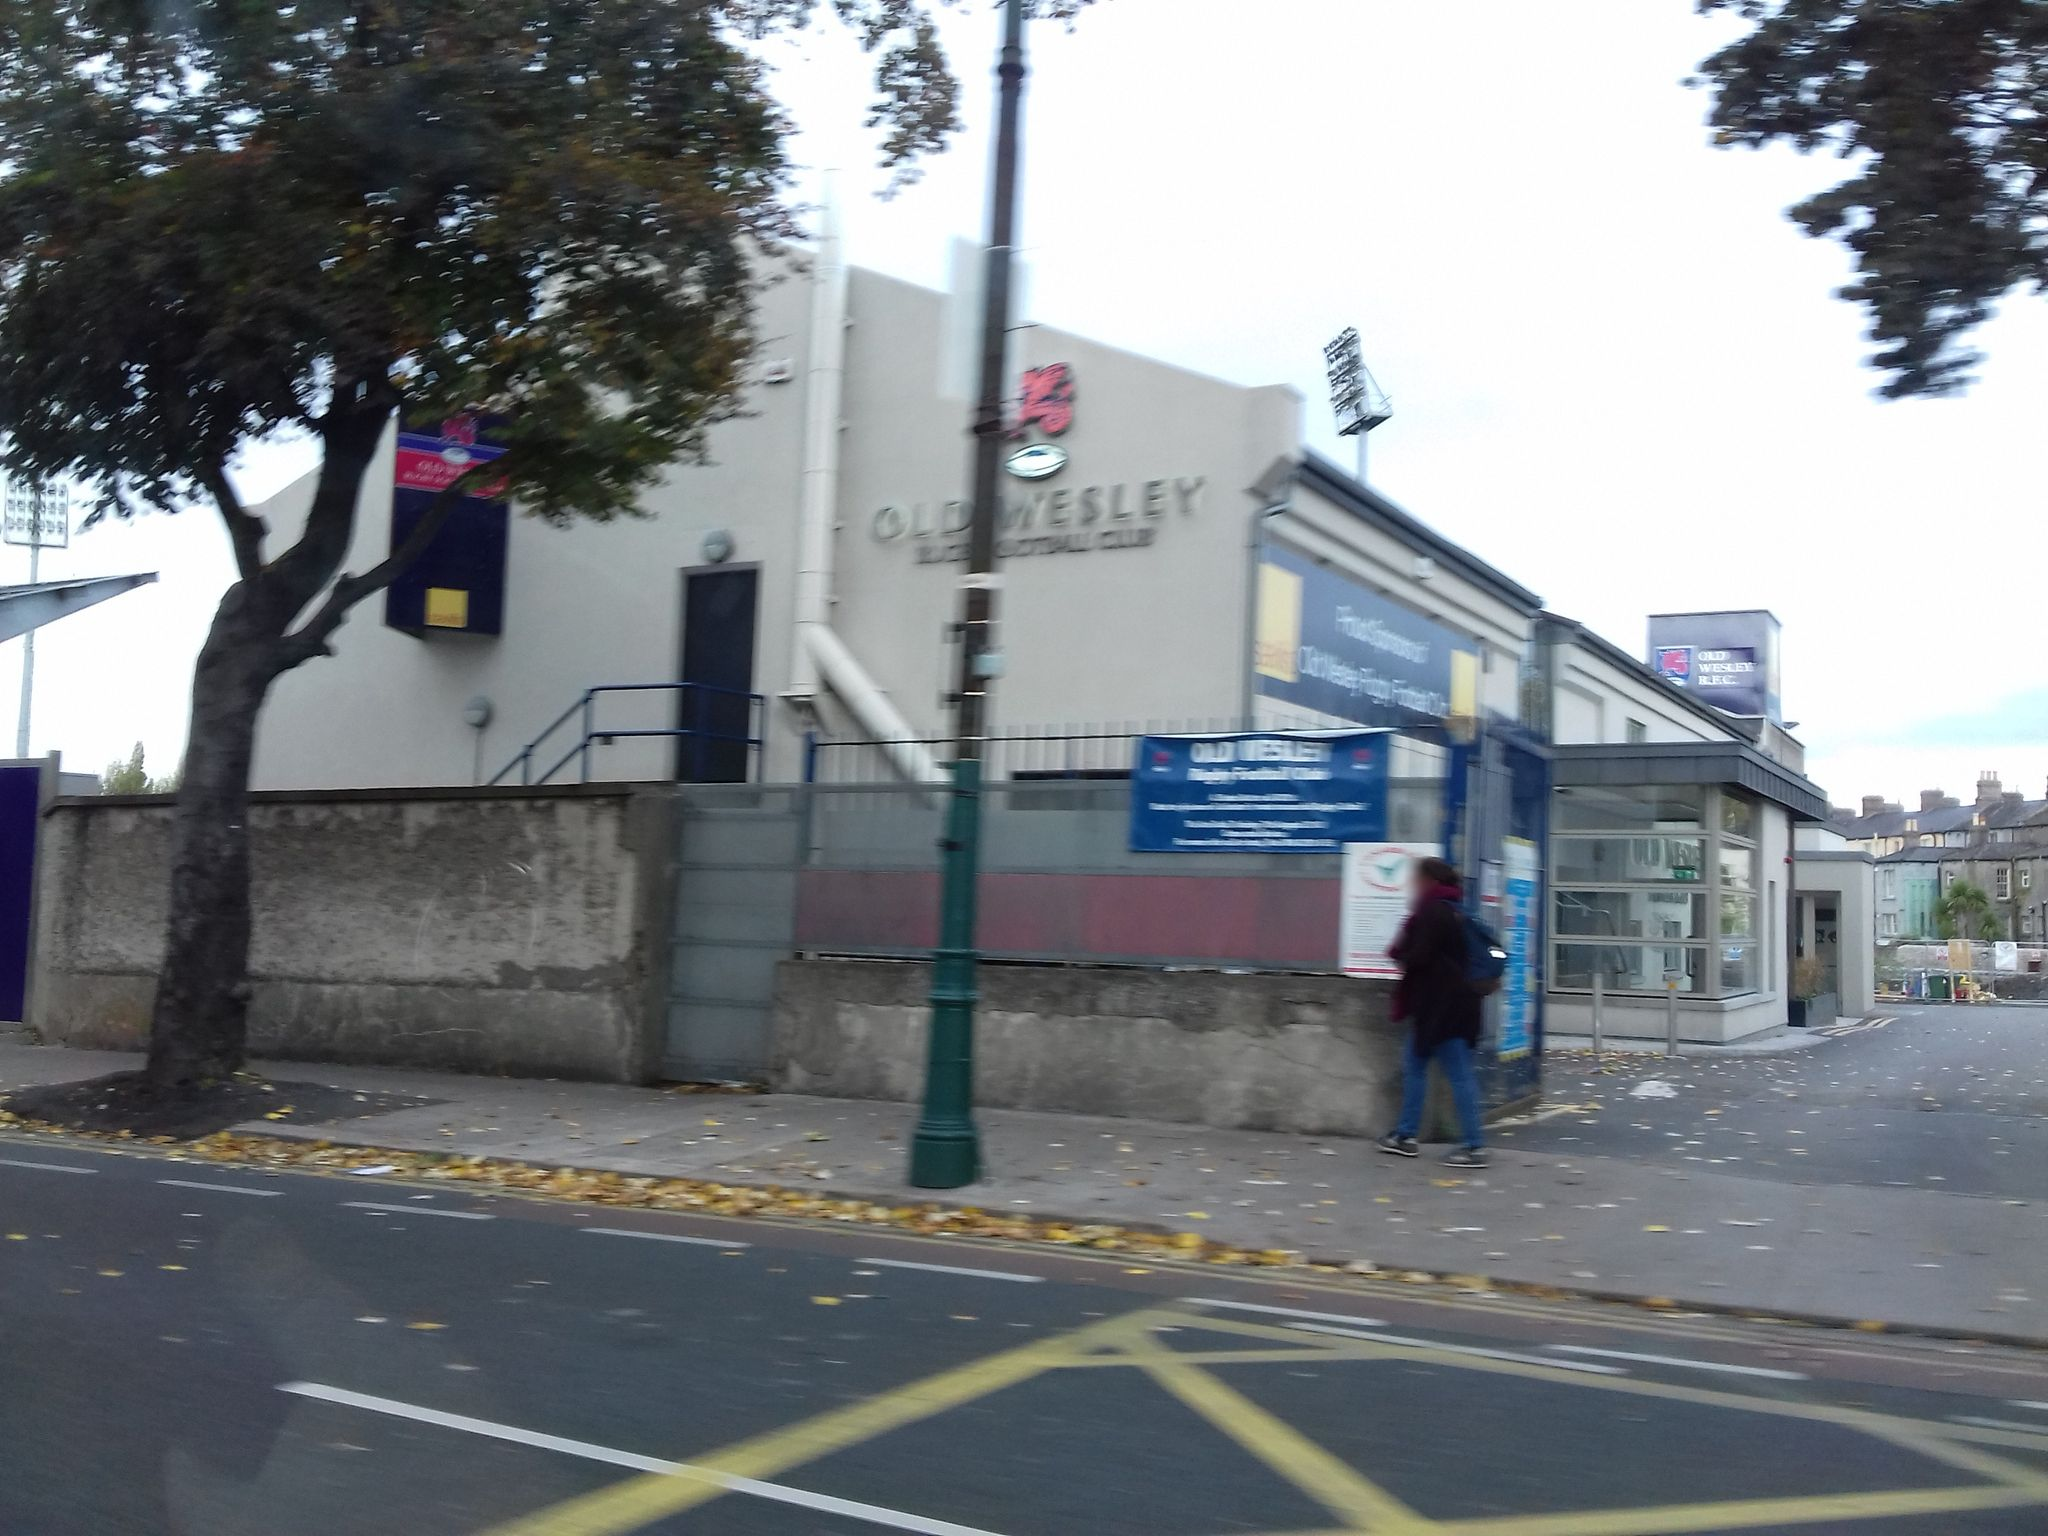vinyl banner: (1092, 699, 1417, 878)
